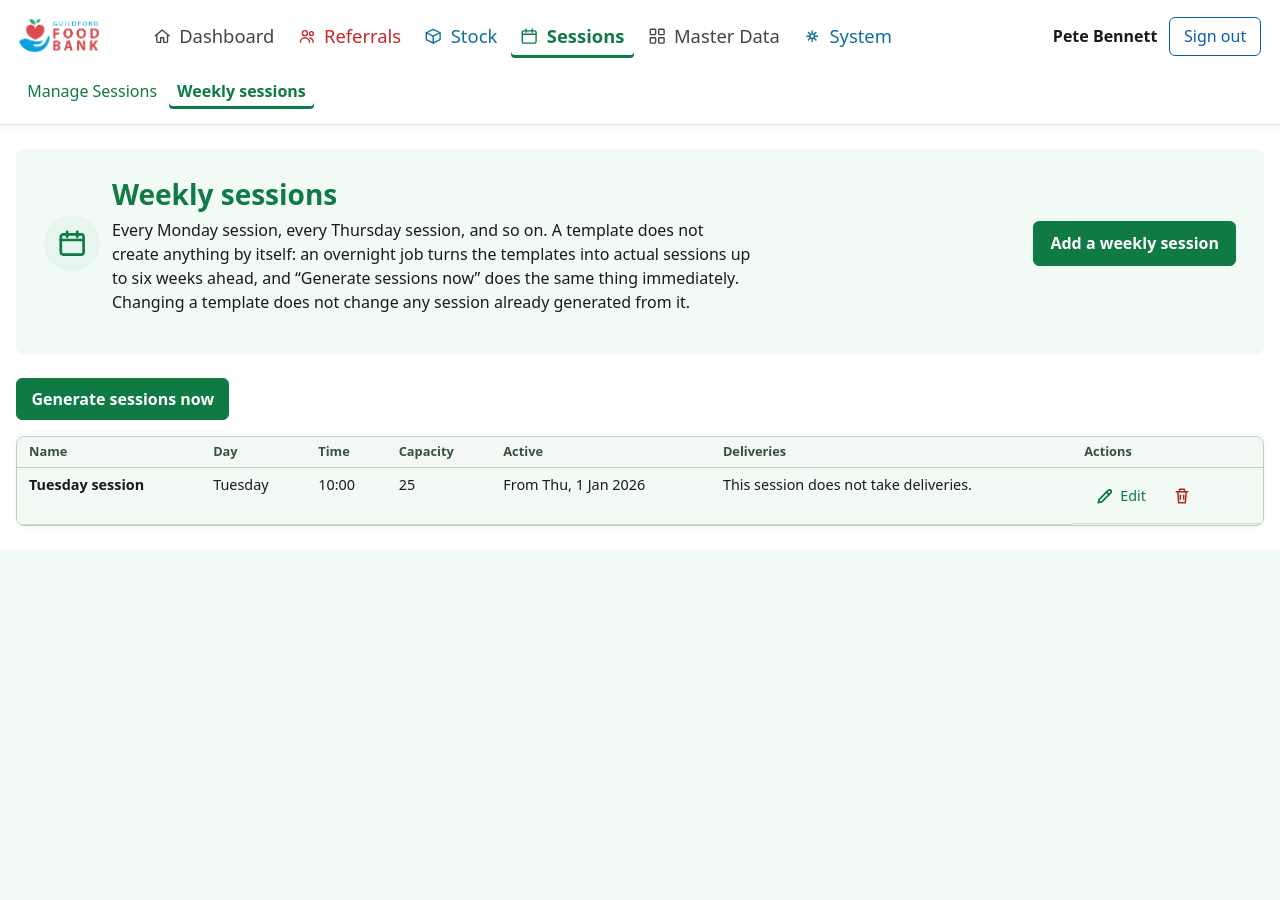
the weekly session list › keeps the template and shows the failure when deletion is refused
Click the button named "Delete Tuesday session" at (1182, 496), box [1160,474,1204,518]
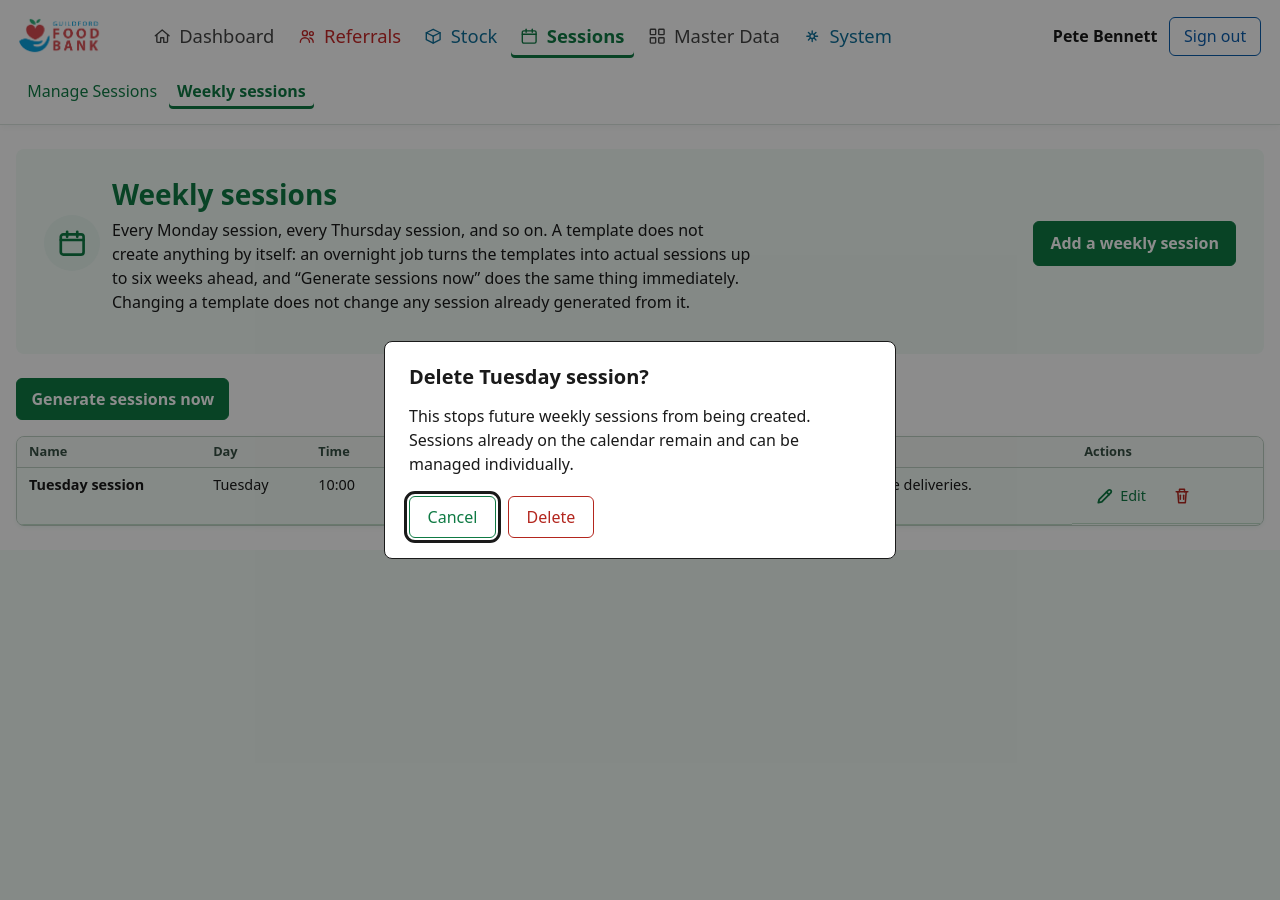
Click the button "Delete" at (551, 517), box [508,496,594,538]
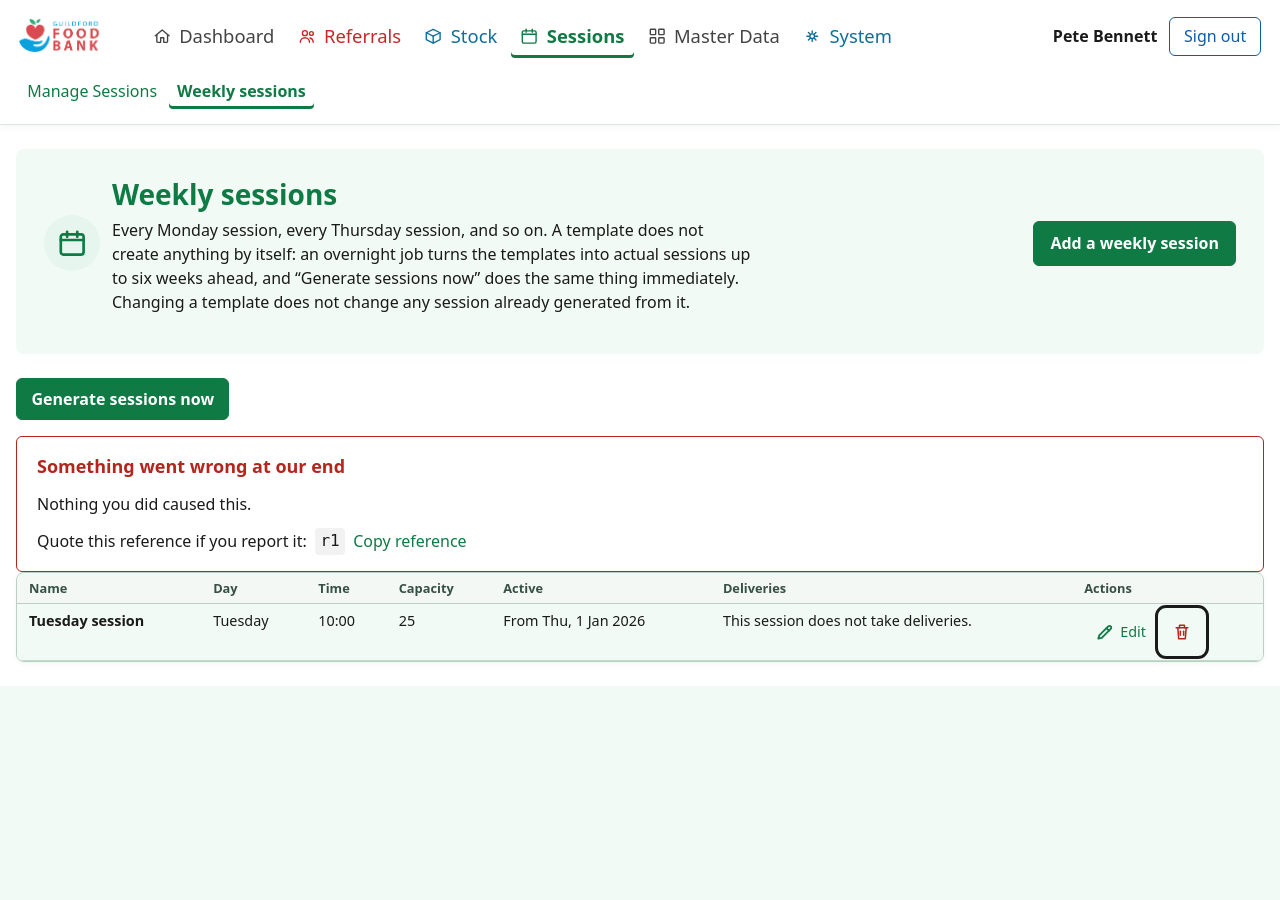
Check: the row "Tuesday session" is shown, box [17,604,1263,660]
Check: the message shows "Something went wrong at our end", box [37,454,345,478]
